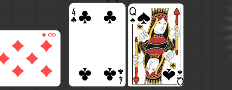4C: (116, 67, 124, 84)
8D: (40, 31, 57, 38)
